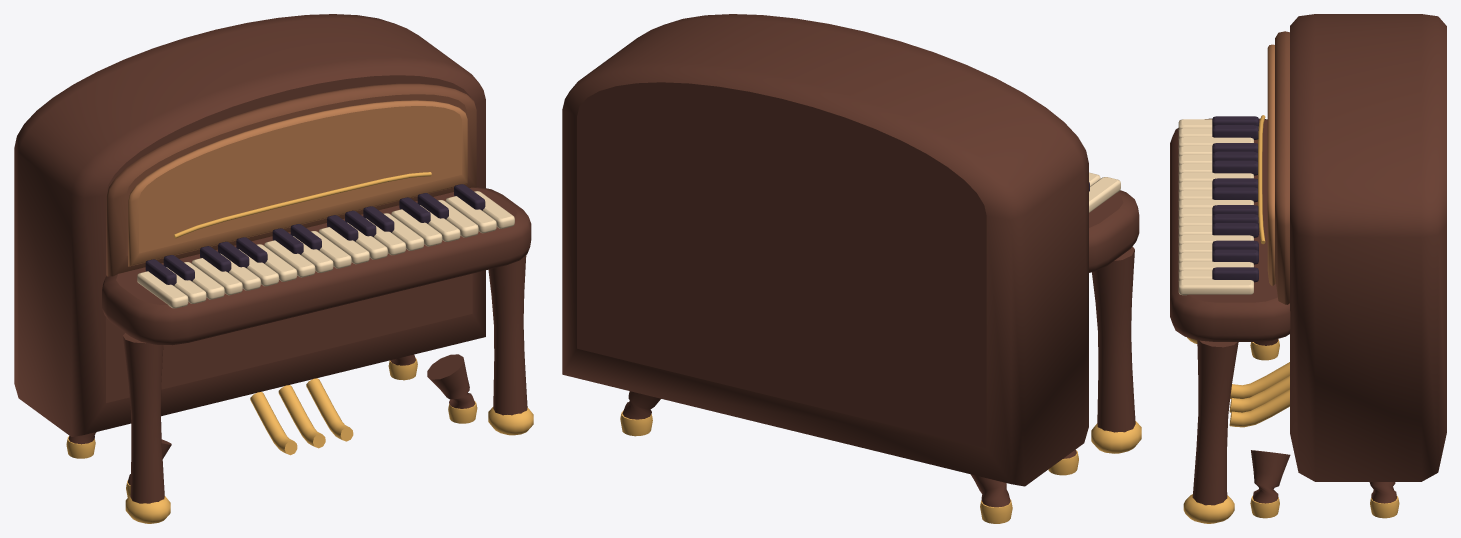
The model's file is atelier_piano.glb.
3 views of the same model, side by side, from view 1: azimuth 30°, elevation 25°; view 2: azimuth 150°, elevation 25°; view 3: azimuth 270°, elevation 25° (orthographic). The views are drawn at different scales.
Visible parts, largest first — view 1: Piano vertical; view 2: Piano vertical; view 3: Piano vertical.
Part boxes in pixels (x1,y1,x2,y2): Piano vertical: [14, 14, 533, 523]; Piano vertical: [562, 14, 1141, 523]; Piano vertical: [1170, 14, 1446, 523].
Bounding box in the file's own units: 1.38 × 1.18 × 0.8025.
